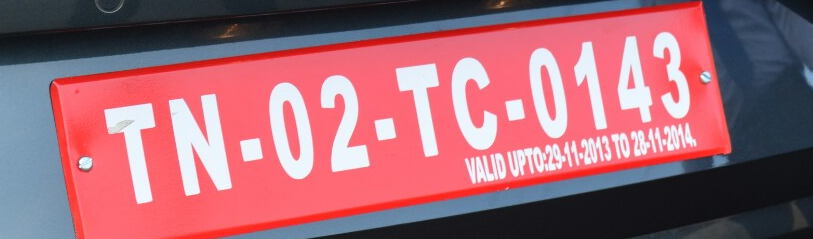0: (265, 82, 318, 181), (526, 47, 573, 140)
1: (570, 42, 615, 131)
2: (320, 74, 373, 174)
3: (652, 31, 695, 121)
4: (614, 35, 657, 123)
C: (448, 56, 501, 151)
N: (165, 93, 237, 197)
T: (101, 102, 161, 204), (392, 62, 443, 159)
